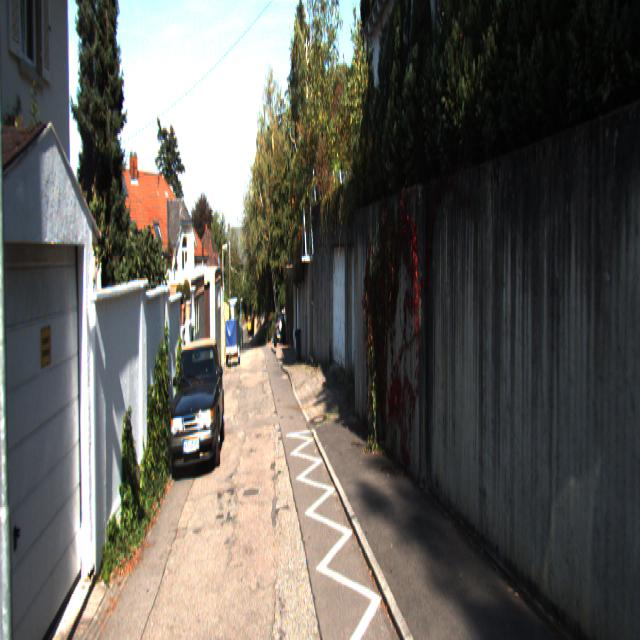Car: (166, 330, 225, 482), (226, 315, 240, 366), (274, 312, 287, 348)
